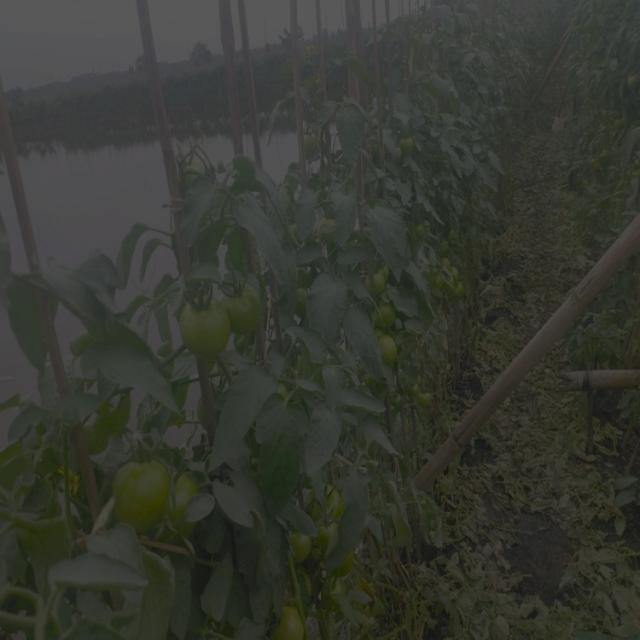tomato: (107, 447, 170, 527), (172, 295, 230, 354), (218, 272, 259, 332), (436, 256, 465, 304), (271, 604, 303, 640), (307, 510, 335, 549), (286, 522, 311, 561), (383, 333, 406, 372), (371, 306, 397, 329), (322, 476, 340, 509), (372, 273, 379, 289)
